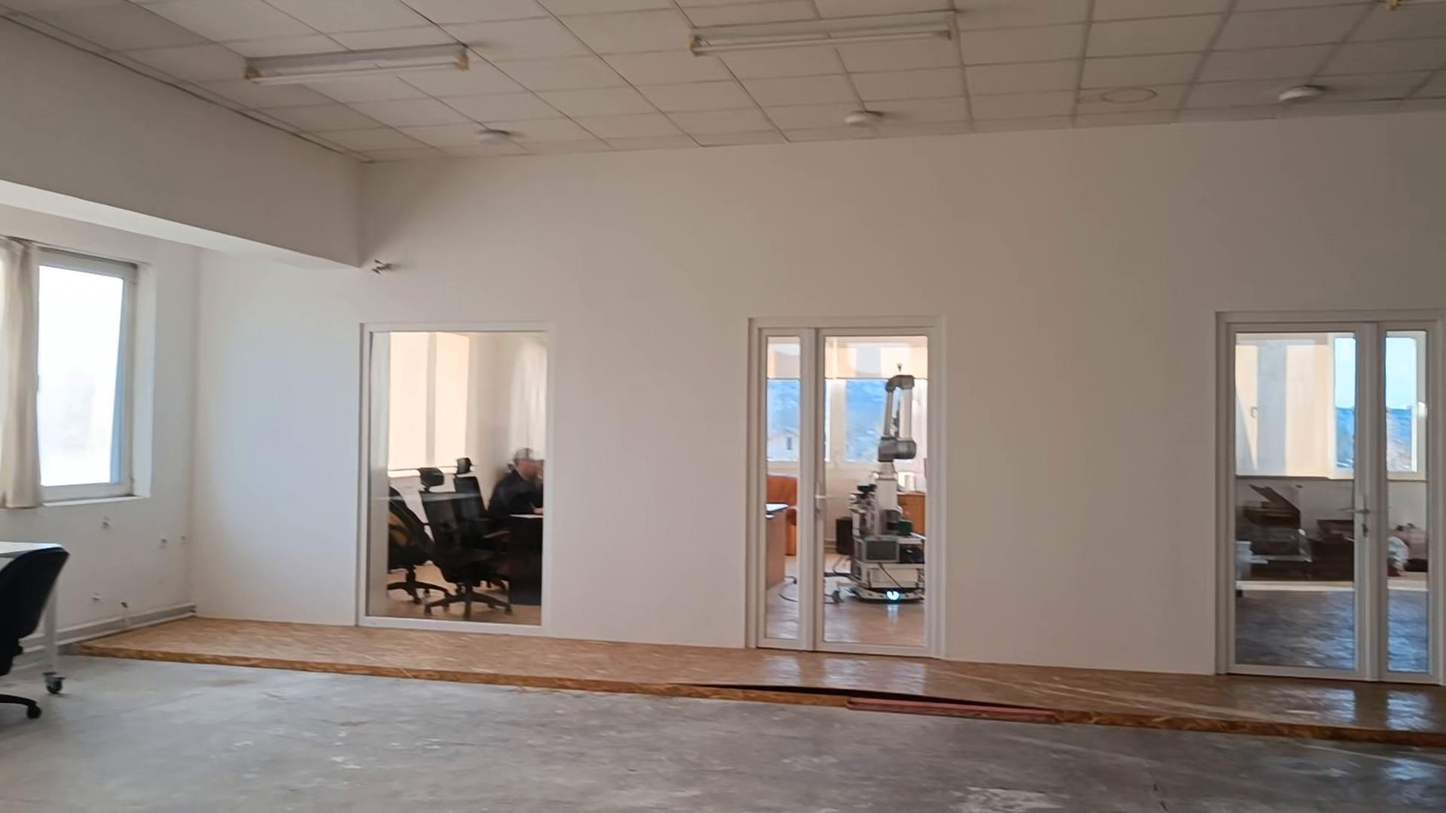ceiling: (0, 0, 1445, 160)
floor: (0, 619, 1445, 812)
wall: (6, 30, 1438, 675)
